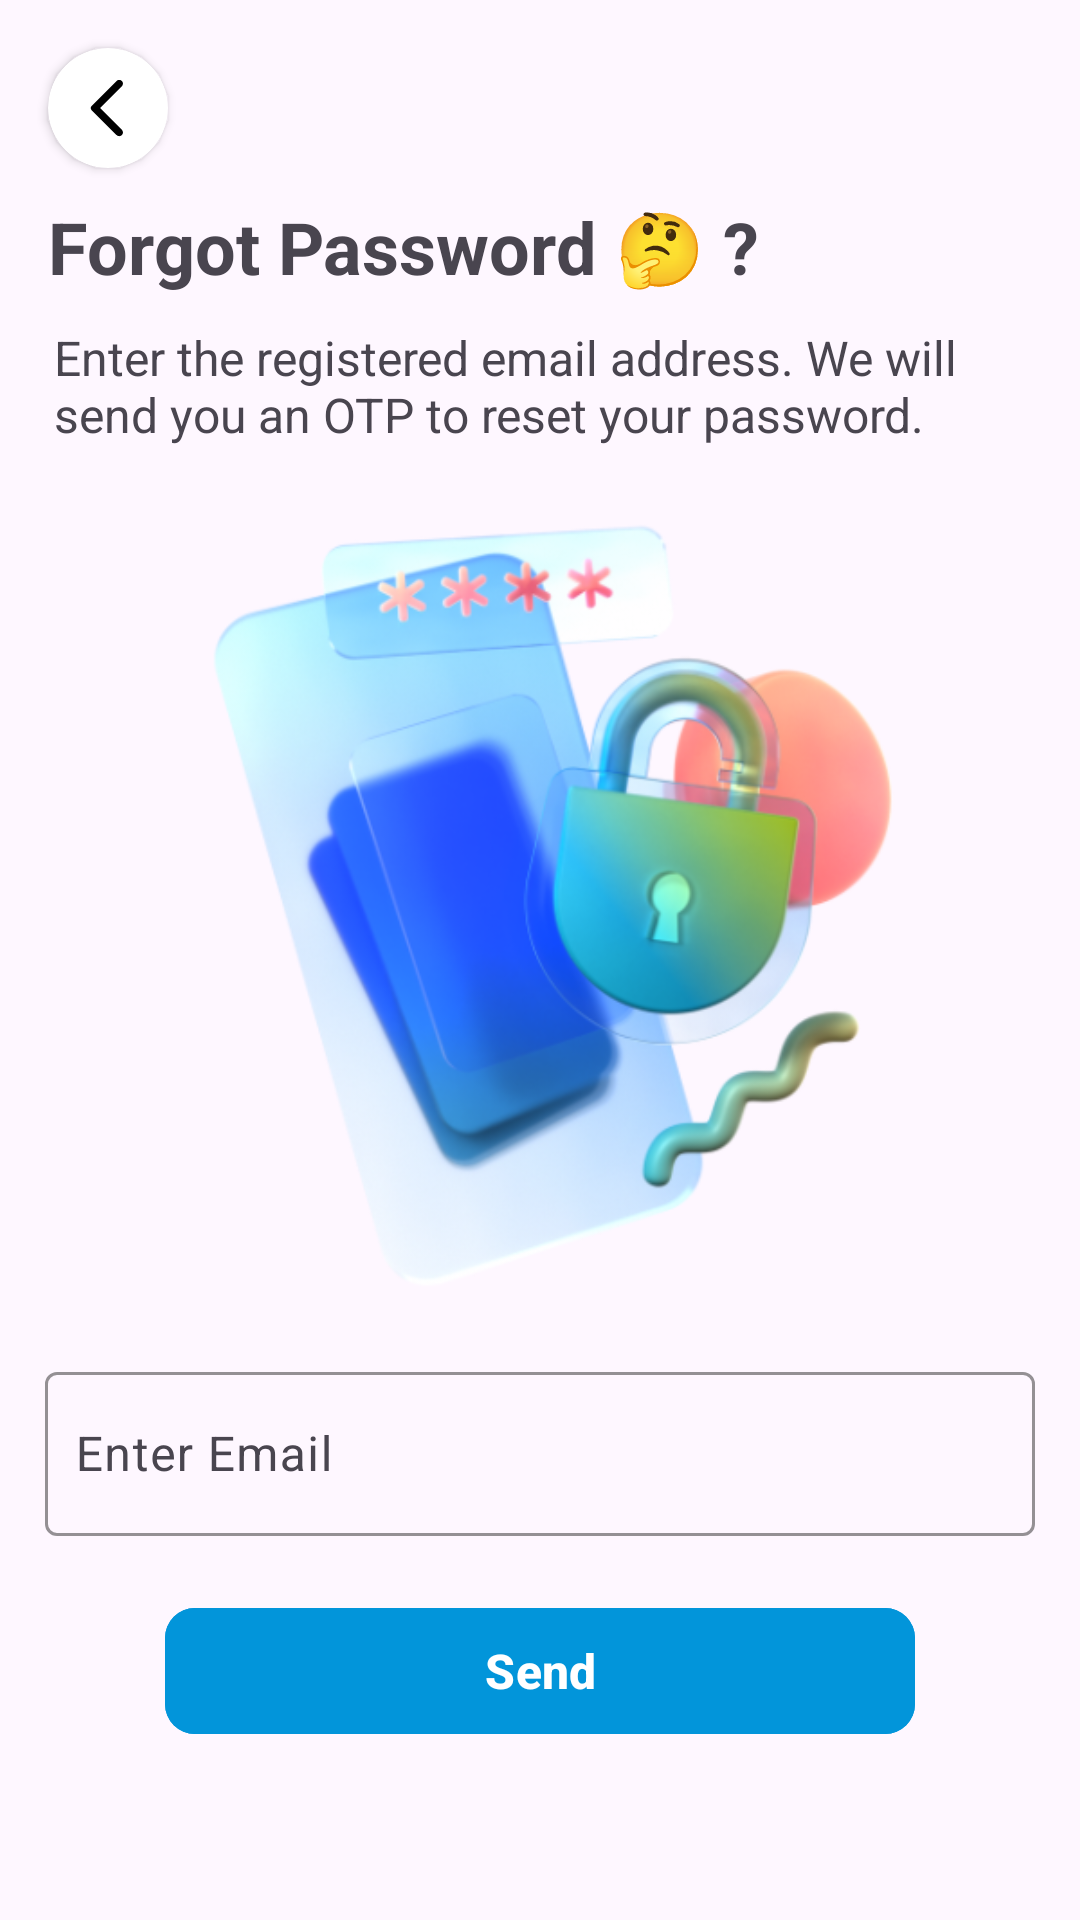

Icons on this 1080px×1920px Android screen, each with the point to tap as point (x, y):
arrow back: point (108, 108)
